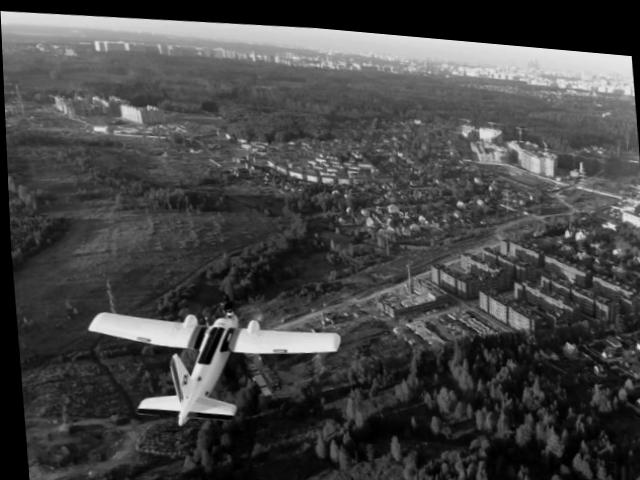hedef: (70, 281, 356, 443)
